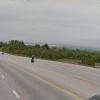Tree: (2, 26, 76, 63)
